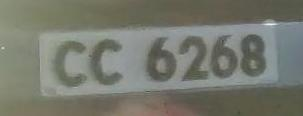2: (172, 30, 214, 88)
6: (141, 31, 180, 88), (206, 29, 241, 85)
8: (236, 28, 271, 84)
C: (51, 36, 94, 93), (88, 32, 126, 93)
